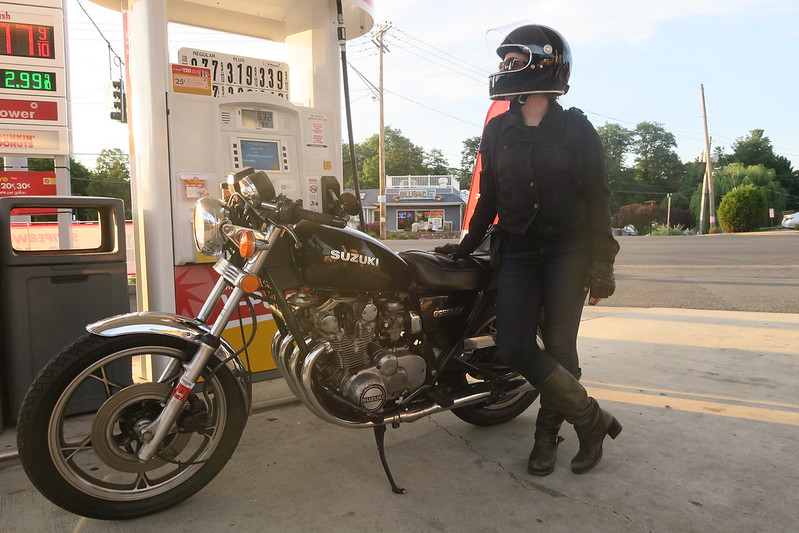helmet: (479, 24, 591, 99)
